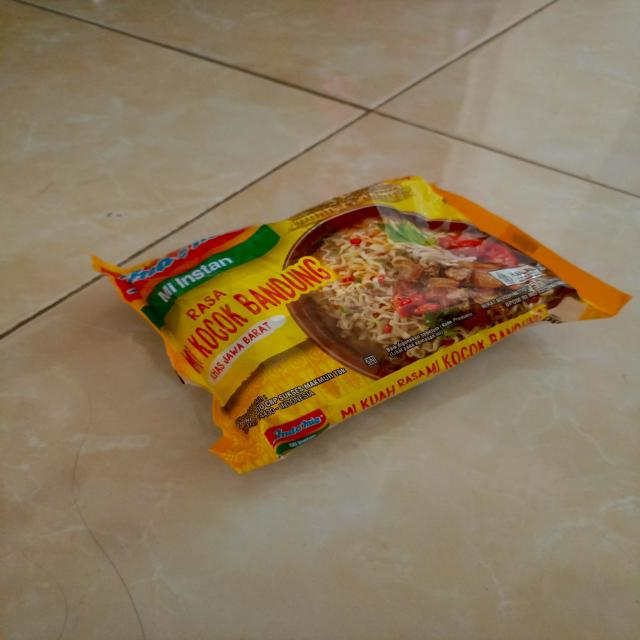indomie-mie-kocok-bandung: (91, 175, 633, 476)
